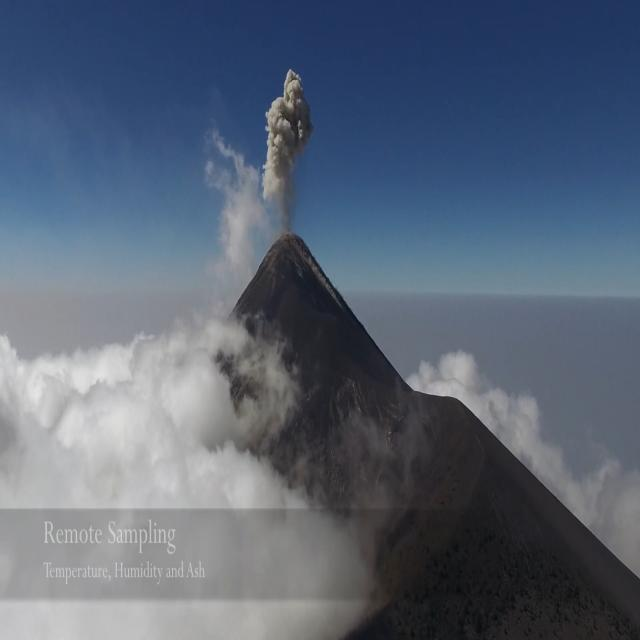Plume: (262, 56, 319, 203)
Summit: (120, 228, 498, 467)
